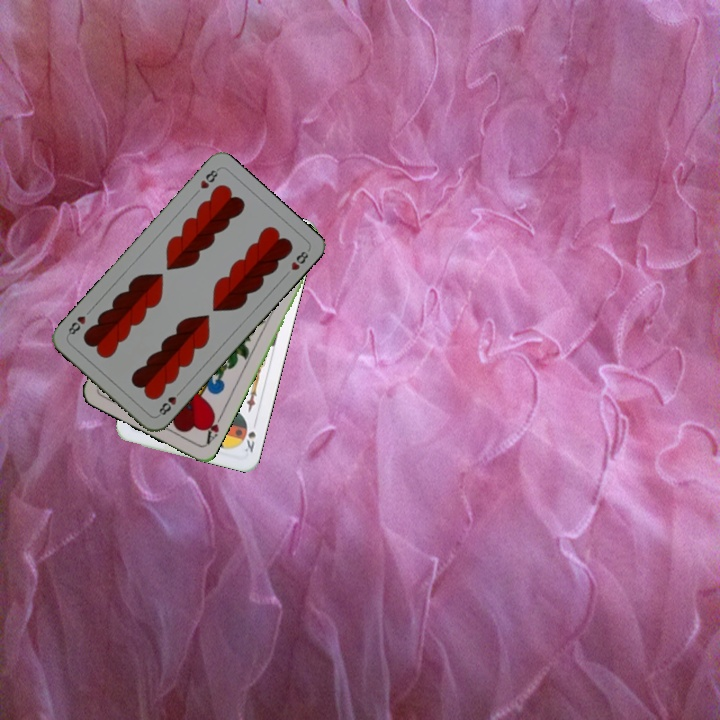H8: (154, 386, 185, 419), (196, 165, 222, 191)
HA: (201, 408, 226, 447)
SK: (239, 427, 258, 455)
